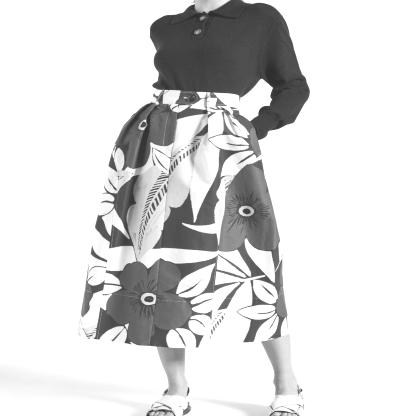dress: (75, 90, 293, 346), (152, 1, 312, 137)
